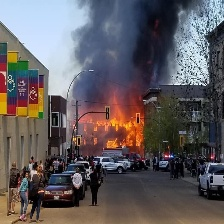fire: (70, 91, 150, 162)
smoke: (52, 1, 200, 83)
